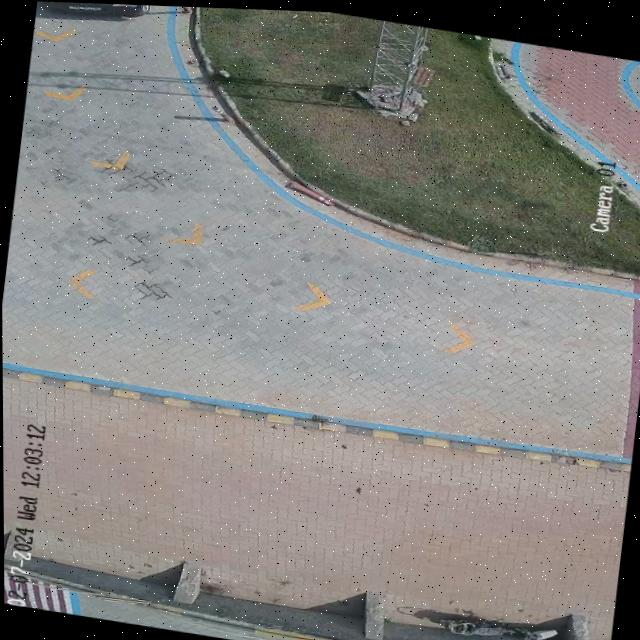car: (36, 1, 145, 14)
